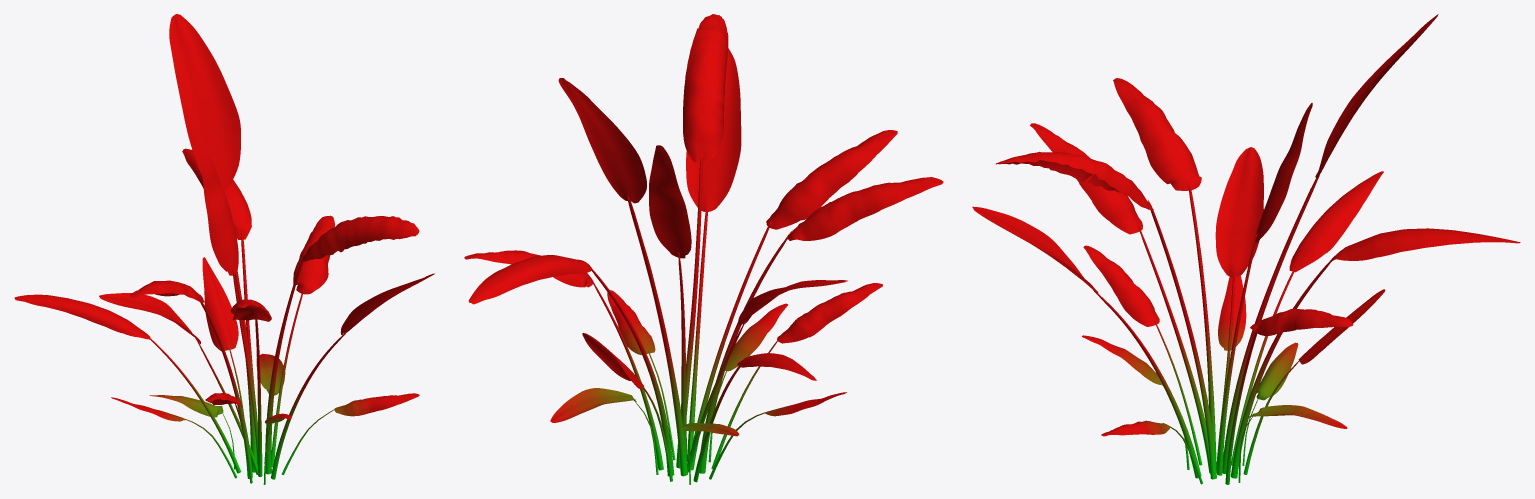
Rendered from Var6_LOD0.fbx.
3 views of the same model, side by side, from view 1: azimuth 30°, elevation 25°; view 2: azimuth 150°, elevation 25°; view 3: azimuth 270°, elevation 25° (orthographic). The views are drawn at different scales.
Visible parts, largest first — view 1: _79kv_Var6_LOD0; view 2: _79kv_Var6_LOD0; view 3: _79kv_Var6_LOD0.
Part boxes in pixels (x1,y1,x2,y2): _79kv_Var6_LOD0: [14, 14, 434, 484]; _79kv_Var6_LOD0: [464, 14, 943, 484]; _79kv_Var6_LOD0: [972, 14, 1520, 484].
Bounding box in the file's own units: 146 × 179 × 191.
